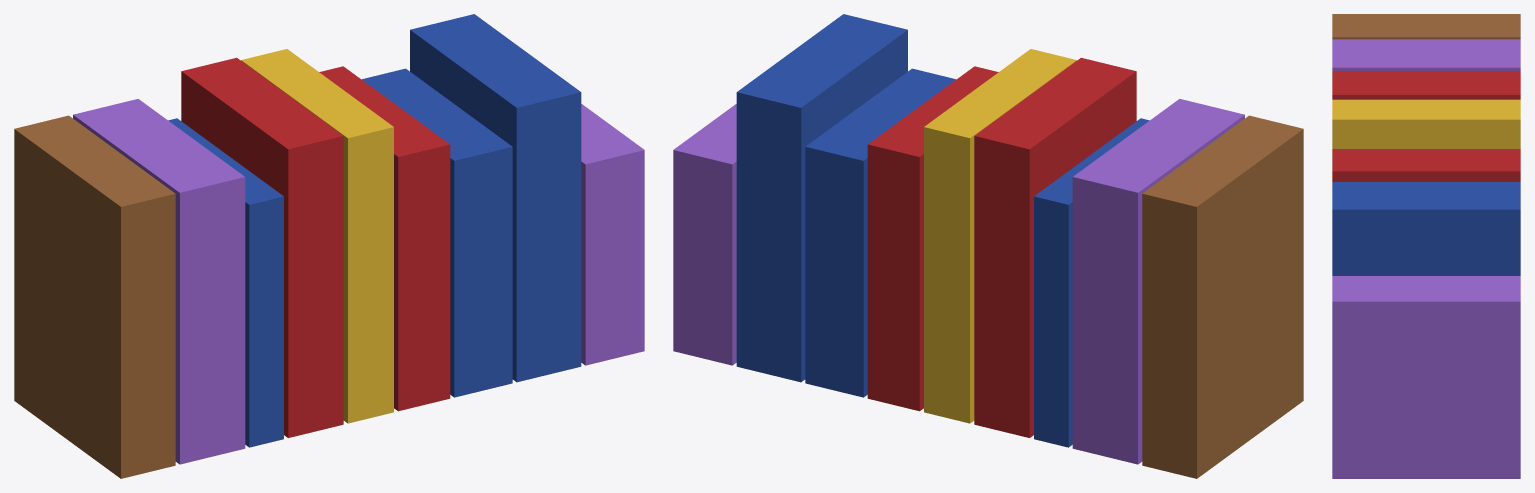
The model's file is book_row.fbx.
3 renders of one model, left to right at view 1: azimuth 30°, elevation 25°; view 2: azimuth 150°, elevation 25°; view 3: azimuth 270°, elevation 25°, orthographic. The views are drawn at different scales.
Parts seen in each view (by area): view 1: book_row; view 2: book_row; view 3: book_row.
Boxes of the visible parts, x1=… form: book_row: x1=14, y1=14, x2=644, y2=478; book_row: x1=673, y1=14, x2=1303, y2=478; book_row: x1=1332, y1=14, x2=1520, y2=478.
Bounding box in the file's own units: 0.6227 × 0.3281 × 0.22.
